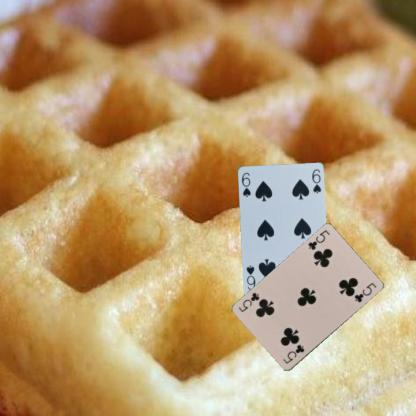5c: (280, 342, 306, 365), (305, 228, 331, 251)
6s: (239, 170, 252, 198)
